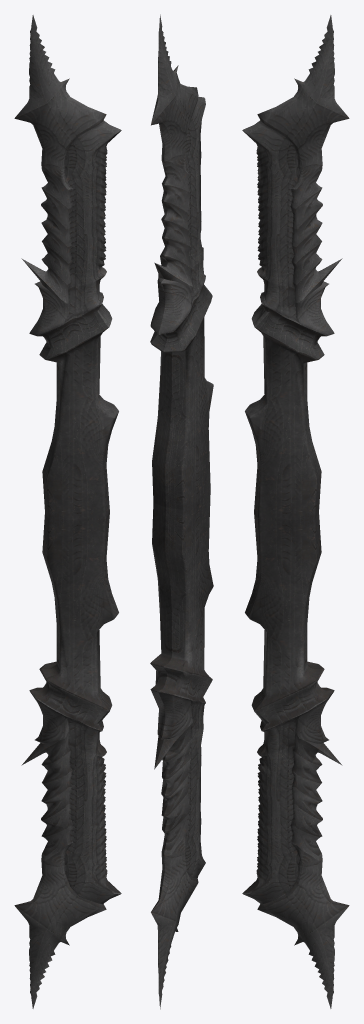
Rendered from bg_rad_kamen_pillar01a_sm_cjy.obj.
3 views of the same model, side by side, from view 1: azimuth 90°, elevation 25°; view 2: azimuth 150°, elevation 25°; view 3: azimuth 270°, elevation 25° (orthographic).
Parts seen in each view (by area): view 1: bg_rad_kamen_pillar01a_sm_cjy_0; view 2: bg_rad_kamen_pillar01a_sm_cjy_0; view 3: bg_rad_kamen_pillar01a_sm_cjy_0.
Part boxes in pixels (x1,y1,x2,y2): bg_rad_kamen_pillar01a_sm_cjy_0: (14,15,121,1008); bg_rad_kamen_pillar01a_sm_cjy_0: (150,14,213,1009); bg_rad_kamen_pillar01a_sm_cjy_0: (242,15,349,1008).
Bounding box in the file's own units: 0.4534 × 11.2 × 1.1.
Materials: 1 (1 with a texture image).
